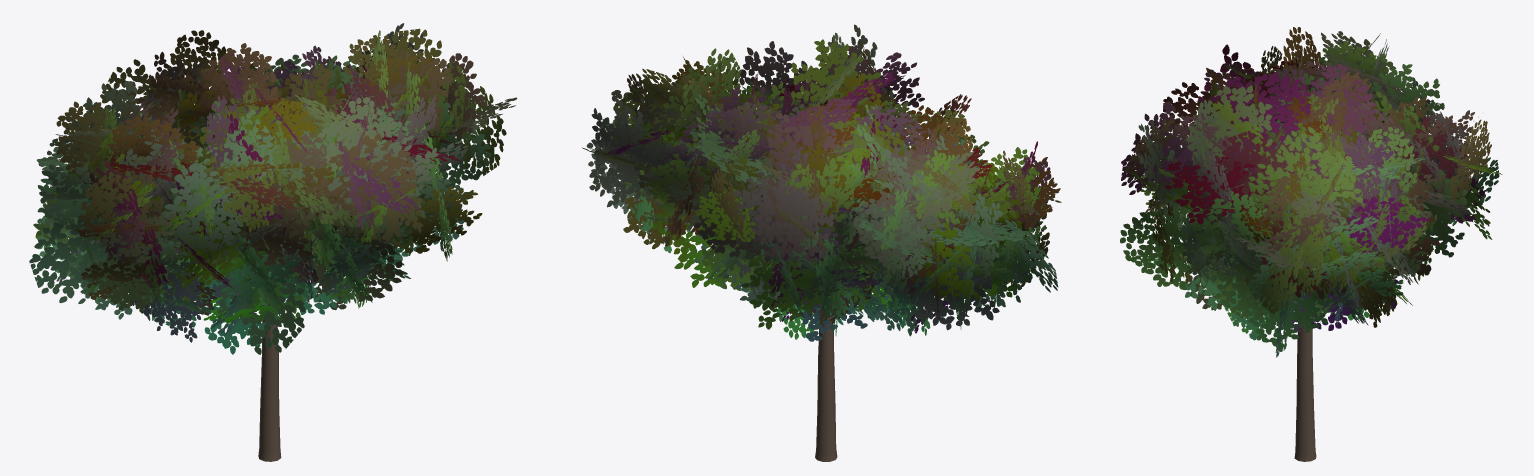
File: tree_small_broadleaf_v3_filler_c.glb
3 renders of one model, left to right at view 1: azimuth 30°, elevation 25°; view 2: azimuth 150°, elevation 25°; view 3: azimuth 270°, elevation 25°, orthographic. The views are drawn at different scales.
Visible parts, largest first — view 1: SmallBroadleafV3Filler_low_broad_Foliage_8MacroGroups, SmallBroadleafV3Filler_low_broad_Trunk_Stylized; view 2: SmallBroadleafV3Filler_low_broad_Foliage_8MacroGroups, SmallBroadleafV3Filler_low_broad_Trunk_Stylized; view 3: SmallBroadleafV3Filler_low_broad_Foliage_8MacroGroups, SmallBroadleafV3Filler_low_broad_Trunk_Stylized.
Boxes of the visible parts, left/top/right/bottom form: SmallBroadleafV3Filler_low_broad_Foliage_8MacroGroups: left=29, top=23, right=517, bottom=354; SmallBroadleafV3Filler_low_broad_Trunk_Stylized: left=258, top=319, right=281, bottom=461; SmallBroadleafV3Filler_low_broad_Foliage_8MacroGroups: left=582, top=24, right=1061, bottom=341; SmallBroadleafV3Filler_low_broad_Trunk_Stylized: left=815, top=316, right=837, bottom=461; SmallBroadleafV3Filler_low_broad_Foliage_8MacroGroups: left=1120, top=27, right=1502, bottom=357; SmallBroadleafV3Filler_low_broad_Trunk_Stylized: left=1294, top=316, right=1316, bottom=461.
Size of the model in its own units: 7.01 by 5.7 by 5.26.
Materials: 2 (1 with a texture image).
